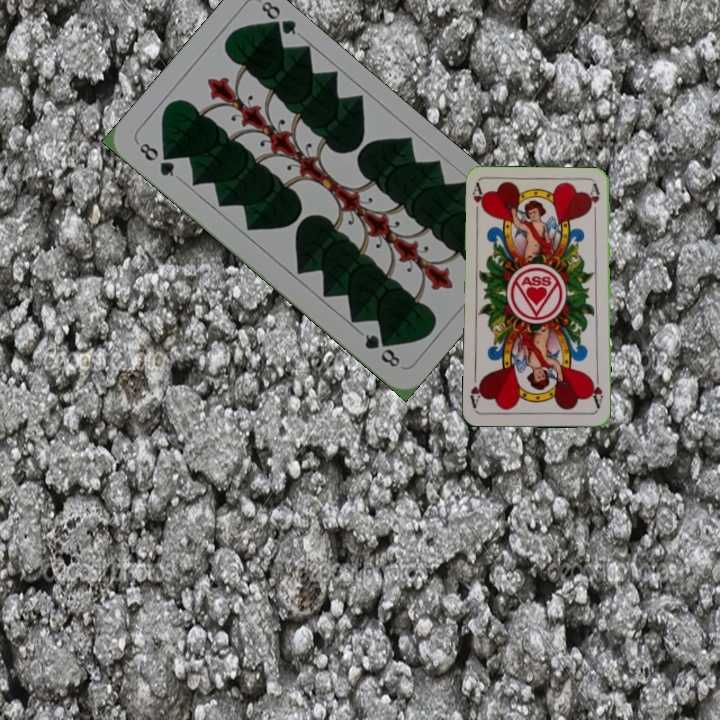G8: (133, 138, 178, 179)
HA: (468, 181, 488, 221), (586, 371, 605, 411)
